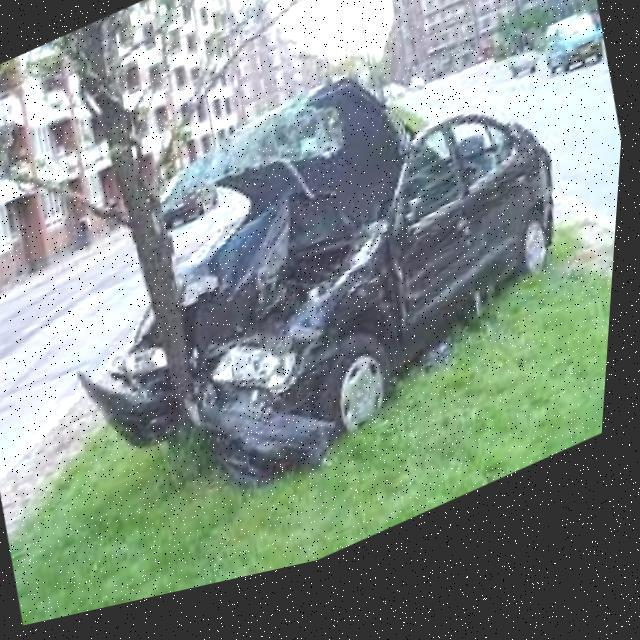Car Accident Detector - v4 Generation1 Exported: (64, 0, 624, 565)
